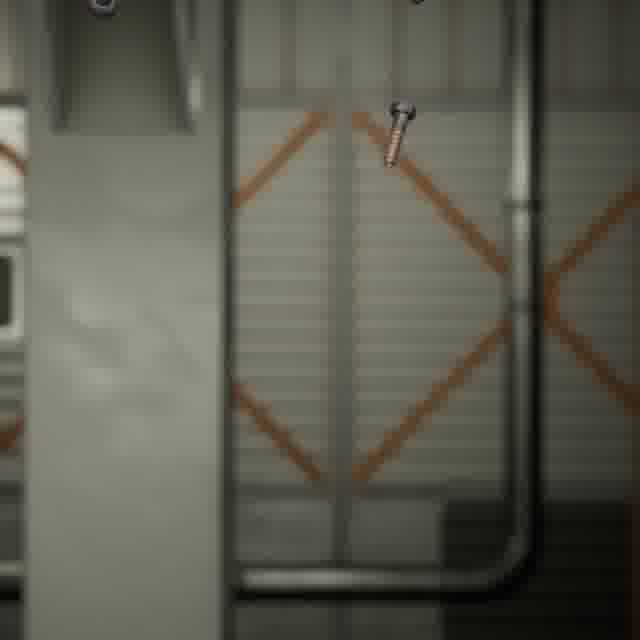bolt: (378, 97, 421, 173), (84, 0, 120, 23)
